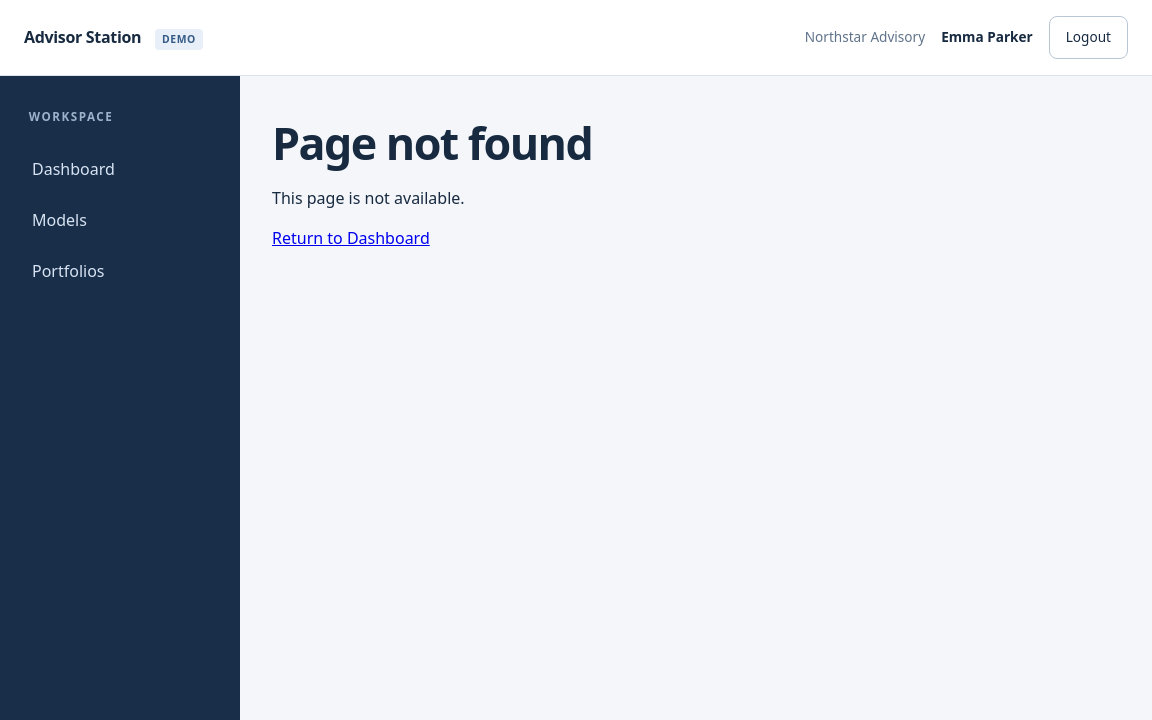
shows not-found inside the authenticated shell and recovers through Dashboard
Expected: the heading "Page not found" is shown, [272, 112, 592, 173]
Step 1. Click the link "Return to Dashboard" → point(351, 238), box [272, 227, 430, 249]
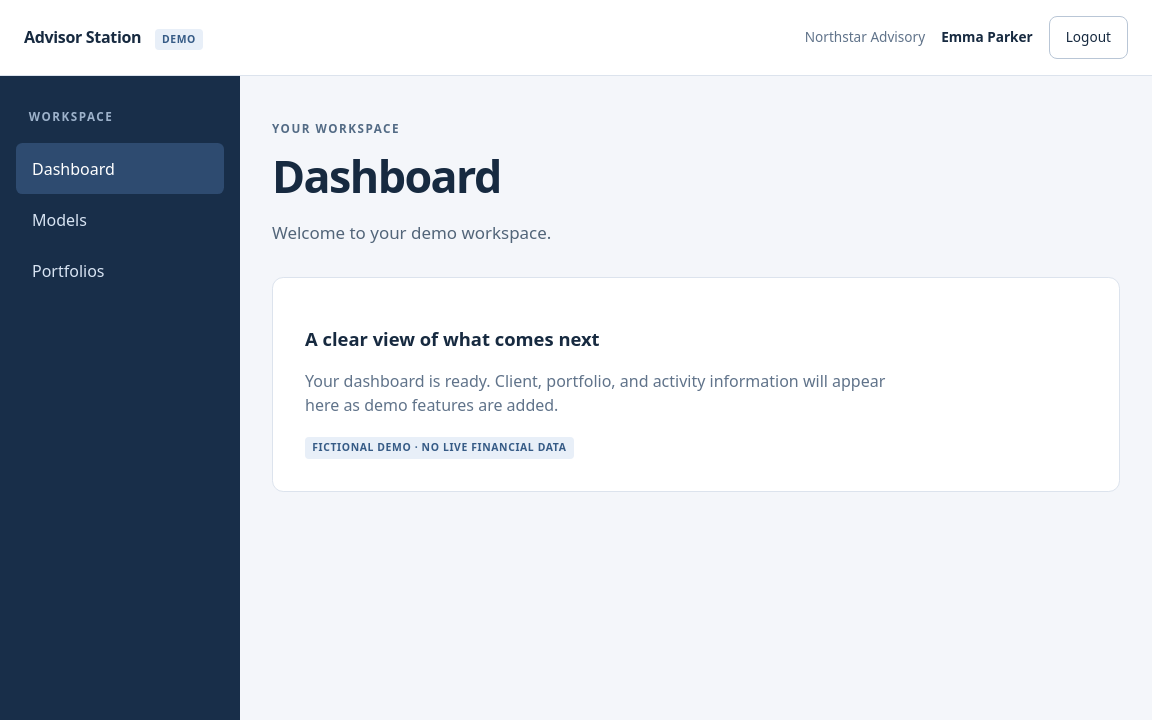
Expected: the heading "Dashboard" is shown, [272, 145, 501, 206]
